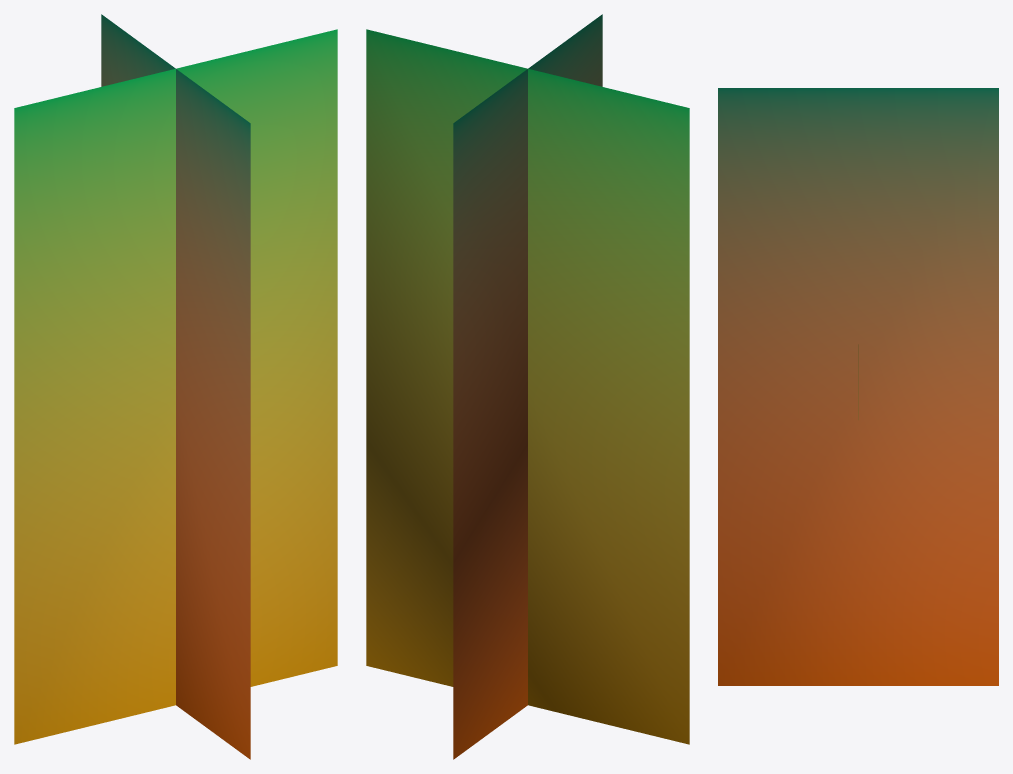
File: SM_Flower_Cornflower_A_LOD3.fbx
The picture shows the model from 3 angles, left to right: view 1: azimuth 30°, elevation 25°; view 2: azimuth 150°, elevation 25°; view 3: azimuth 270°, elevation 25°; orthographic projection. The views are drawn at different scales.
Parts seen in each view (by area): view 1: SM_Flower_Cornflower_A_LOD3; view 2: SM_Flower_Cornflower_A_LOD3; view 3: SM_Flower_Cornflower_A_LOD3.
Boxes of the visible parts, x1=… form: SM_Flower_Cornflower_A_LOD3: x1=14, y1=14, x2=337, y2=759; SM_Flower_Cornflower_A_LOD3: x1=366, y1=14, x2=689, y2=759; SM_Flower_Cornflower_A_LOD3: x1=718, y1=88, x2=998, y2=685.
Bounding box in the file's own units: 0.3799 × 0.7141 × 0.304.
